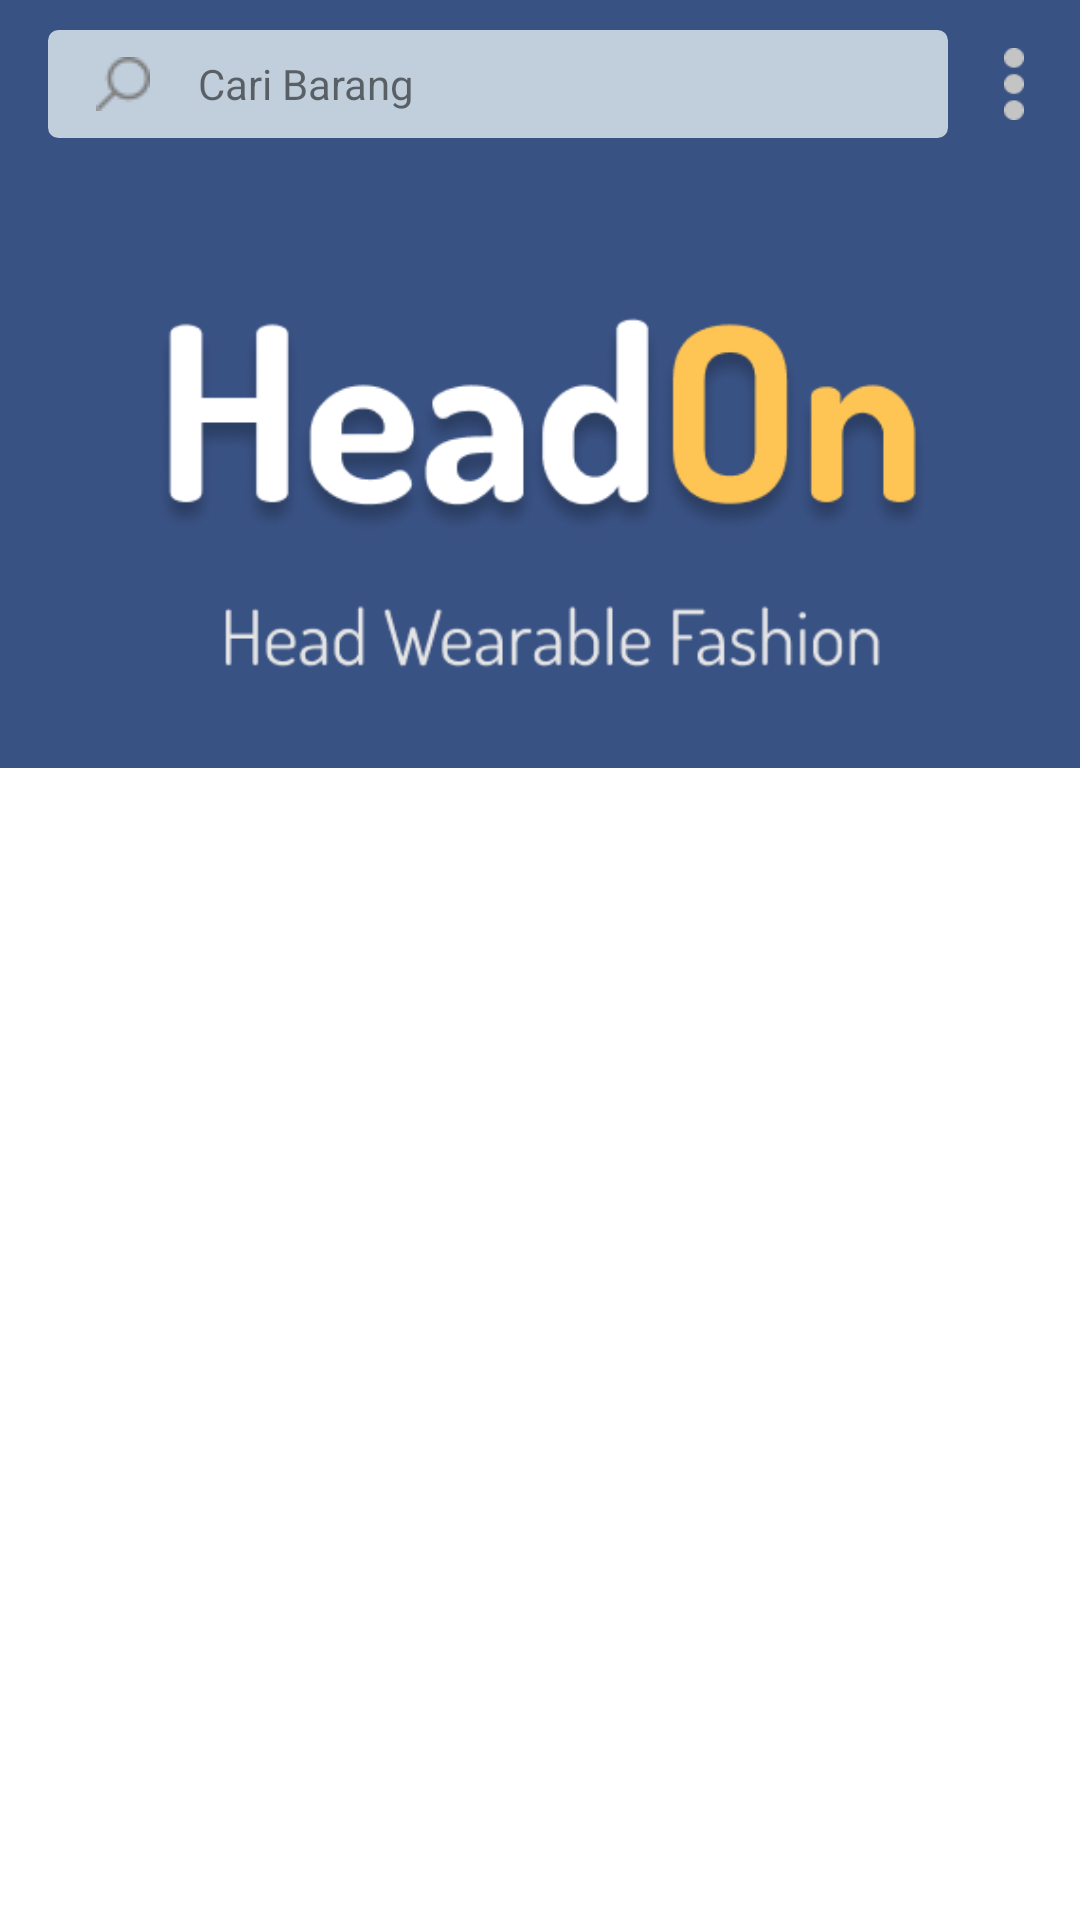

Icon click points for this 1080 x 1920 phone screenshot, format point (x, y):
more: point (1014, 84)
search: point (123, 84)
